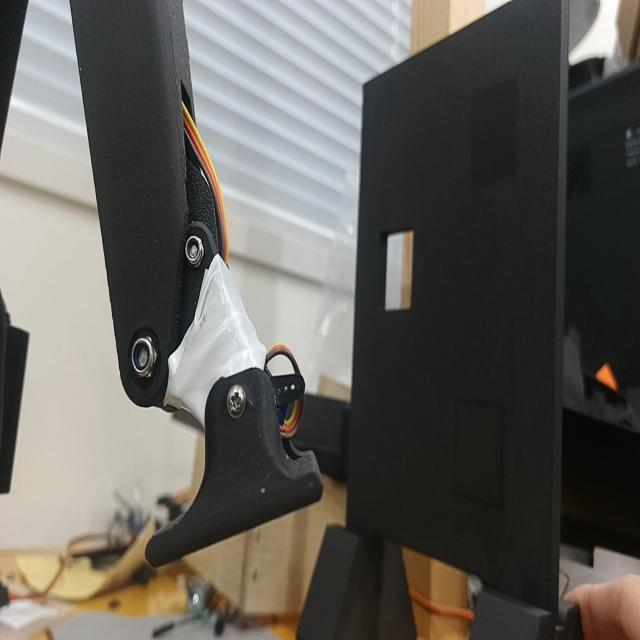Obstacle: (383, 228, 414, 308)
Wall: (346, 0, 561, 612)
